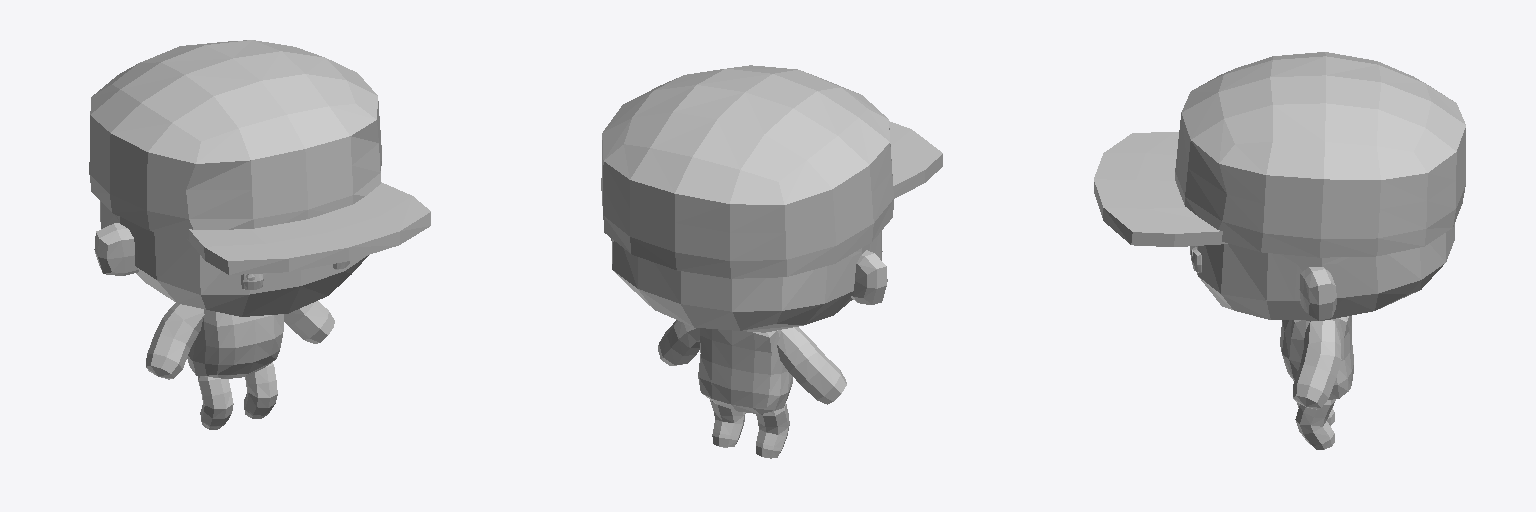
Rendered from jump_0009.obj.
3 renders of one model, left to right at view 1: azimuth 30°, elevation 25°; view 2: azimuth 150°, elevation 25°; view 3: azimuth 270°, elevation 25°, orthographic.
Visible parts, largest first — view 1: Object_41, Object_42, Object_44, Object_36; view 2: Object_41, Object_36, Object_44, Object_42; view 3: Object_41, Object_36, Object_42, Object_44.
Boxes of the visible parts, x1,y1,x2,y2 form: Object_41: [89, 40, 381, 239]; Object_42: [186, 120, 430, 274]; Object_44: [146, 301, 334, 429]; Object_36: [94, 201, 368, 316]; Object_41: [601, 65, 893, 278]; Object_36: [611, 231, 887, 332]; Object_44: [658, 320, 846, 458]; Object_42: [889, 121, 942, 198]; Object_41: [1181, 52, 1465, 257]; Object_36: [1190, 224, 1454, 320]; Object_42: [1094, 113, 1227, 246]; Object_44: [1280, 316, 1353, 449].
Bounding box in the file's own units: 0.9691 × 1.21 × 1.13.